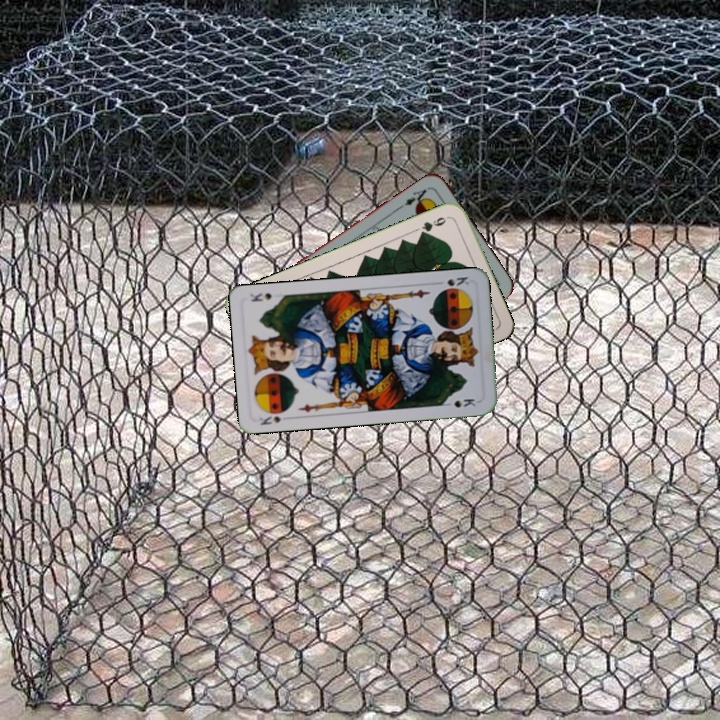EA: (396, 183, 432, 210)
G9: (416, 212, 452, 238)
SK: (256, 406, 294, 428), (443, 273, 472, 289)
